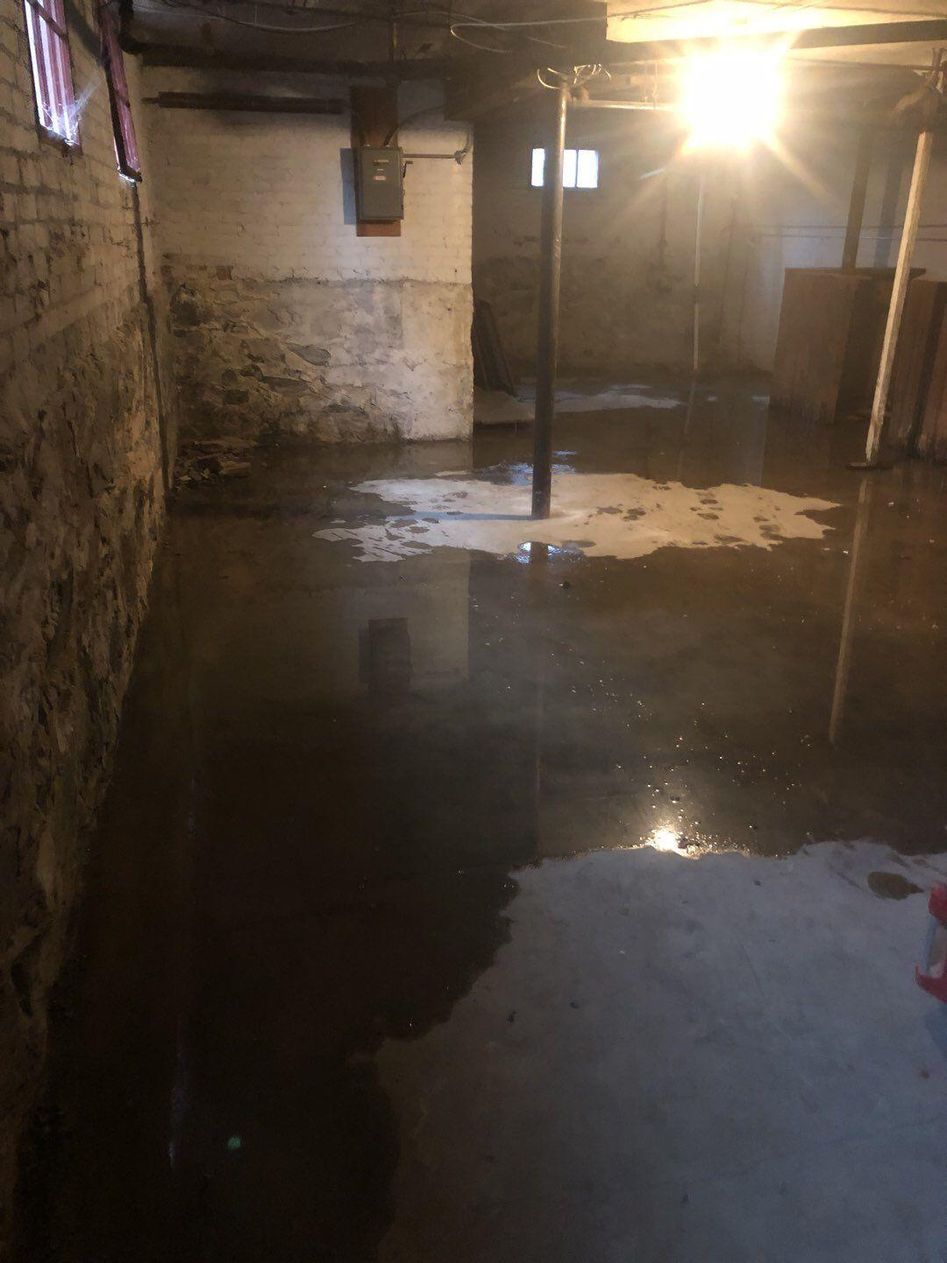water accumulation: (2, 351, 947, 1263)
